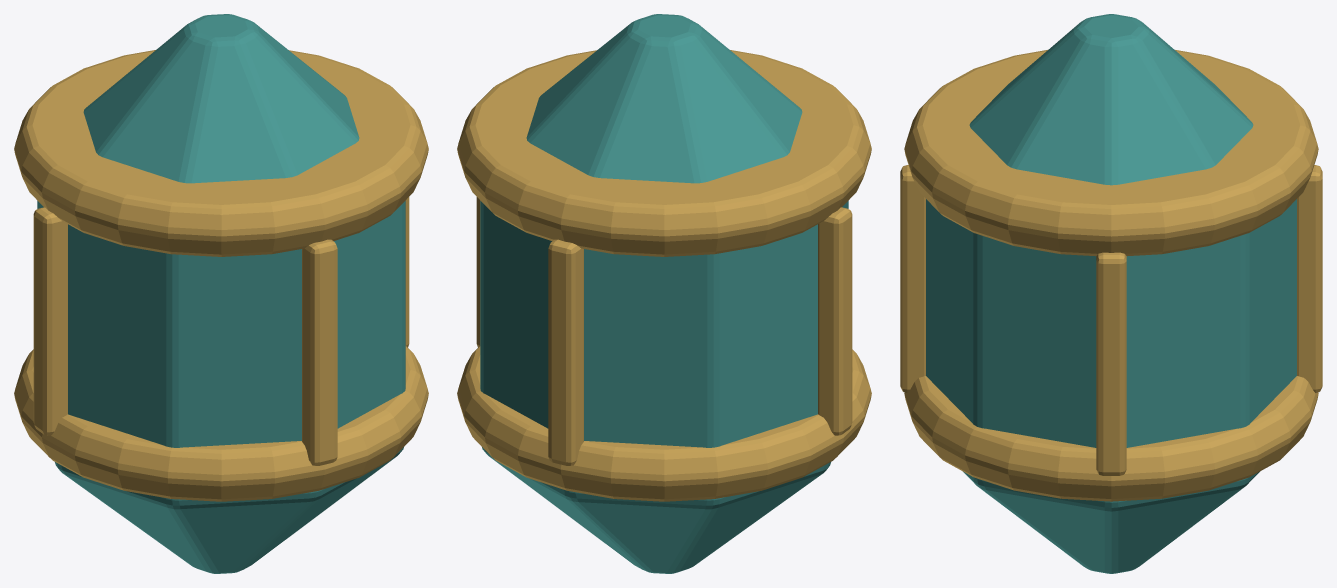
File: salvage-cell-v1.glb
The picture shows the model from 3 angles, left to right: view 1: azimuth 30°, elevation 25°; view 2: azimuth 150°, elevation 25°; view 3: azimuth 270°, elevation 25°; orthographic projection.
Visible parts, largest first — view 1: Mission1_salvage-cell; view 2: Mission1_salvage-cell; view 3: Mission1_salvage-cell.
Part boxes in pixels (x1,y1,x2,y2): Mission1_salvage-cell: [14, 14, 428, 573]; Mission1_salvage-cell: [457, 14, 871, 573]; Mission1_salvage-cell: [900, 14, 1322, 573].
Size of the model in its own units: 0.485 by 0.68 by 0.485.
